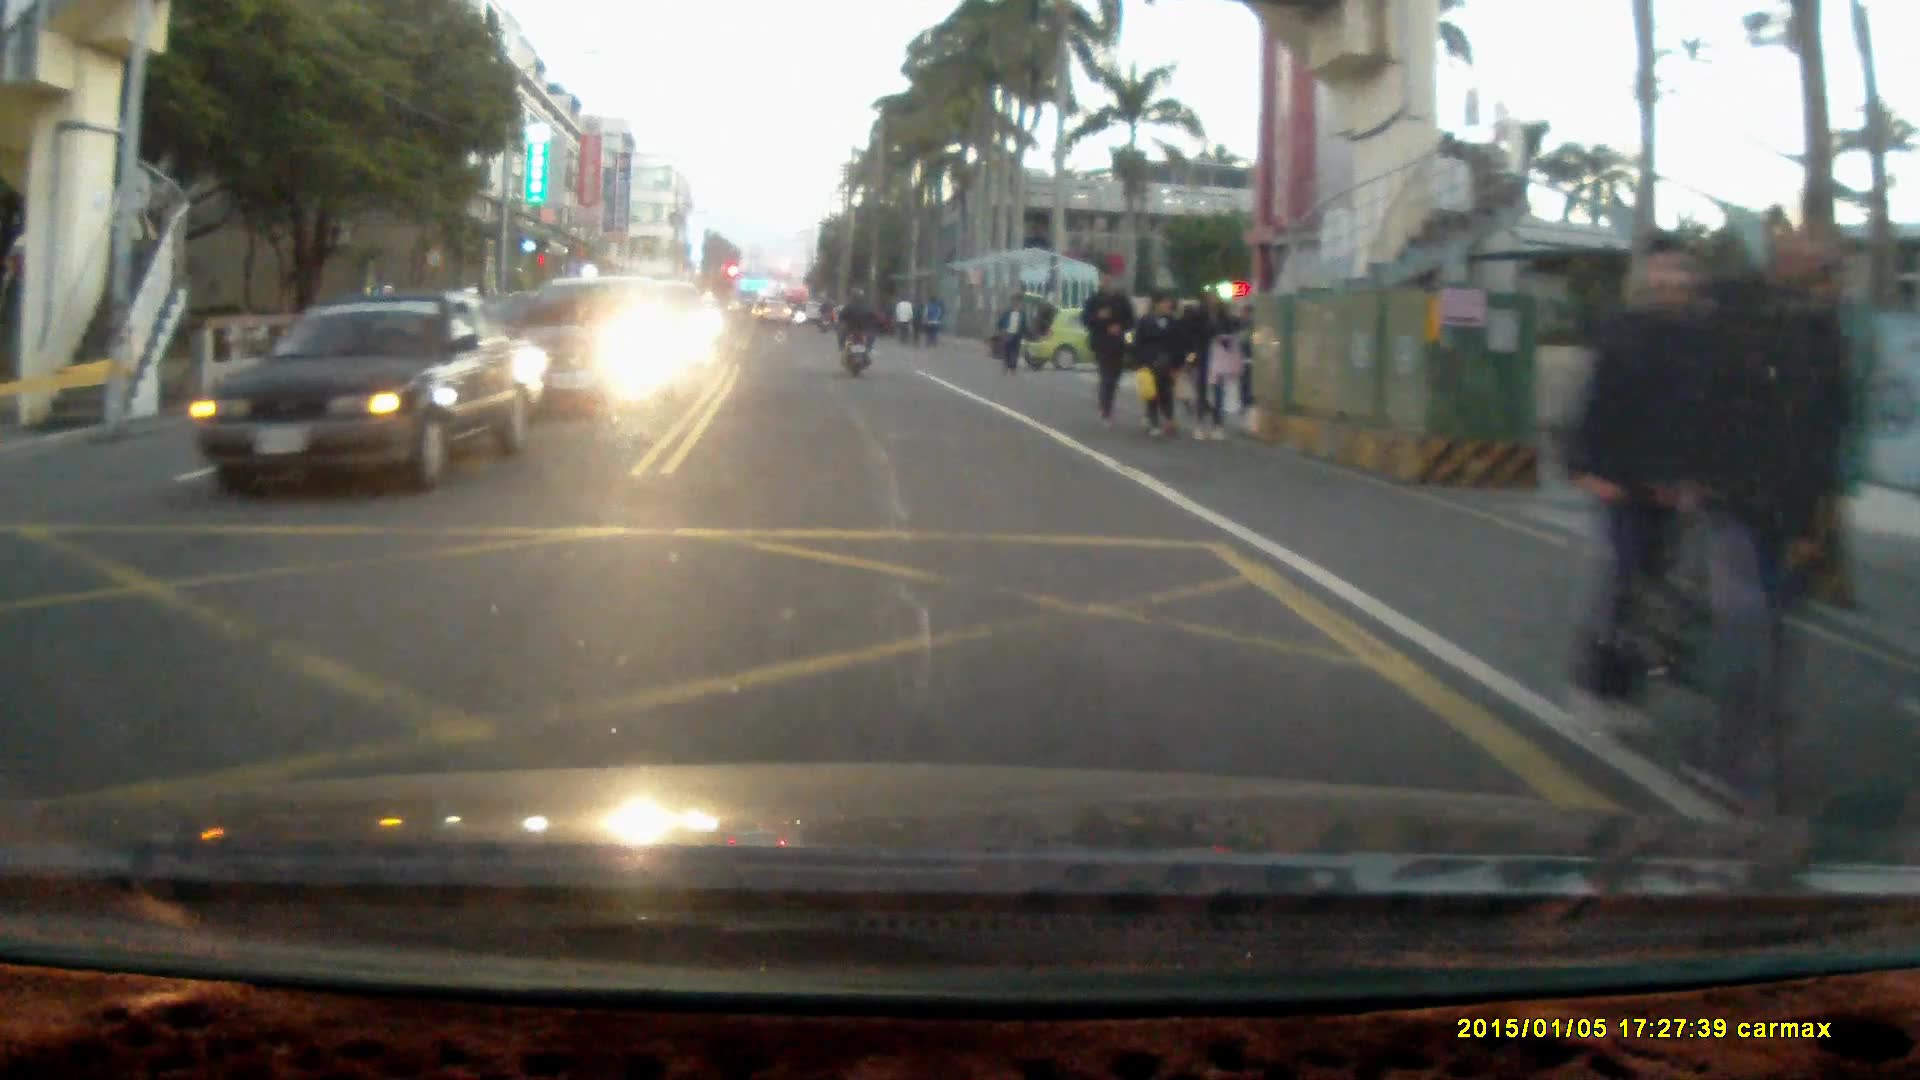pedestrian: (1649, 196, 1866, 841), (1575, 235, 1738, 728), (1081, 261, 1137, 432), (1185, 285, 1240, 443), (1133, 291, 1189, 433), (994, 297, 1024, 378)
rider: (836, 284, 877, 377)
vehicle: (196, 295, 547, 490), (502, 279, 686, 415), (1010, 293, 1165, 372)
